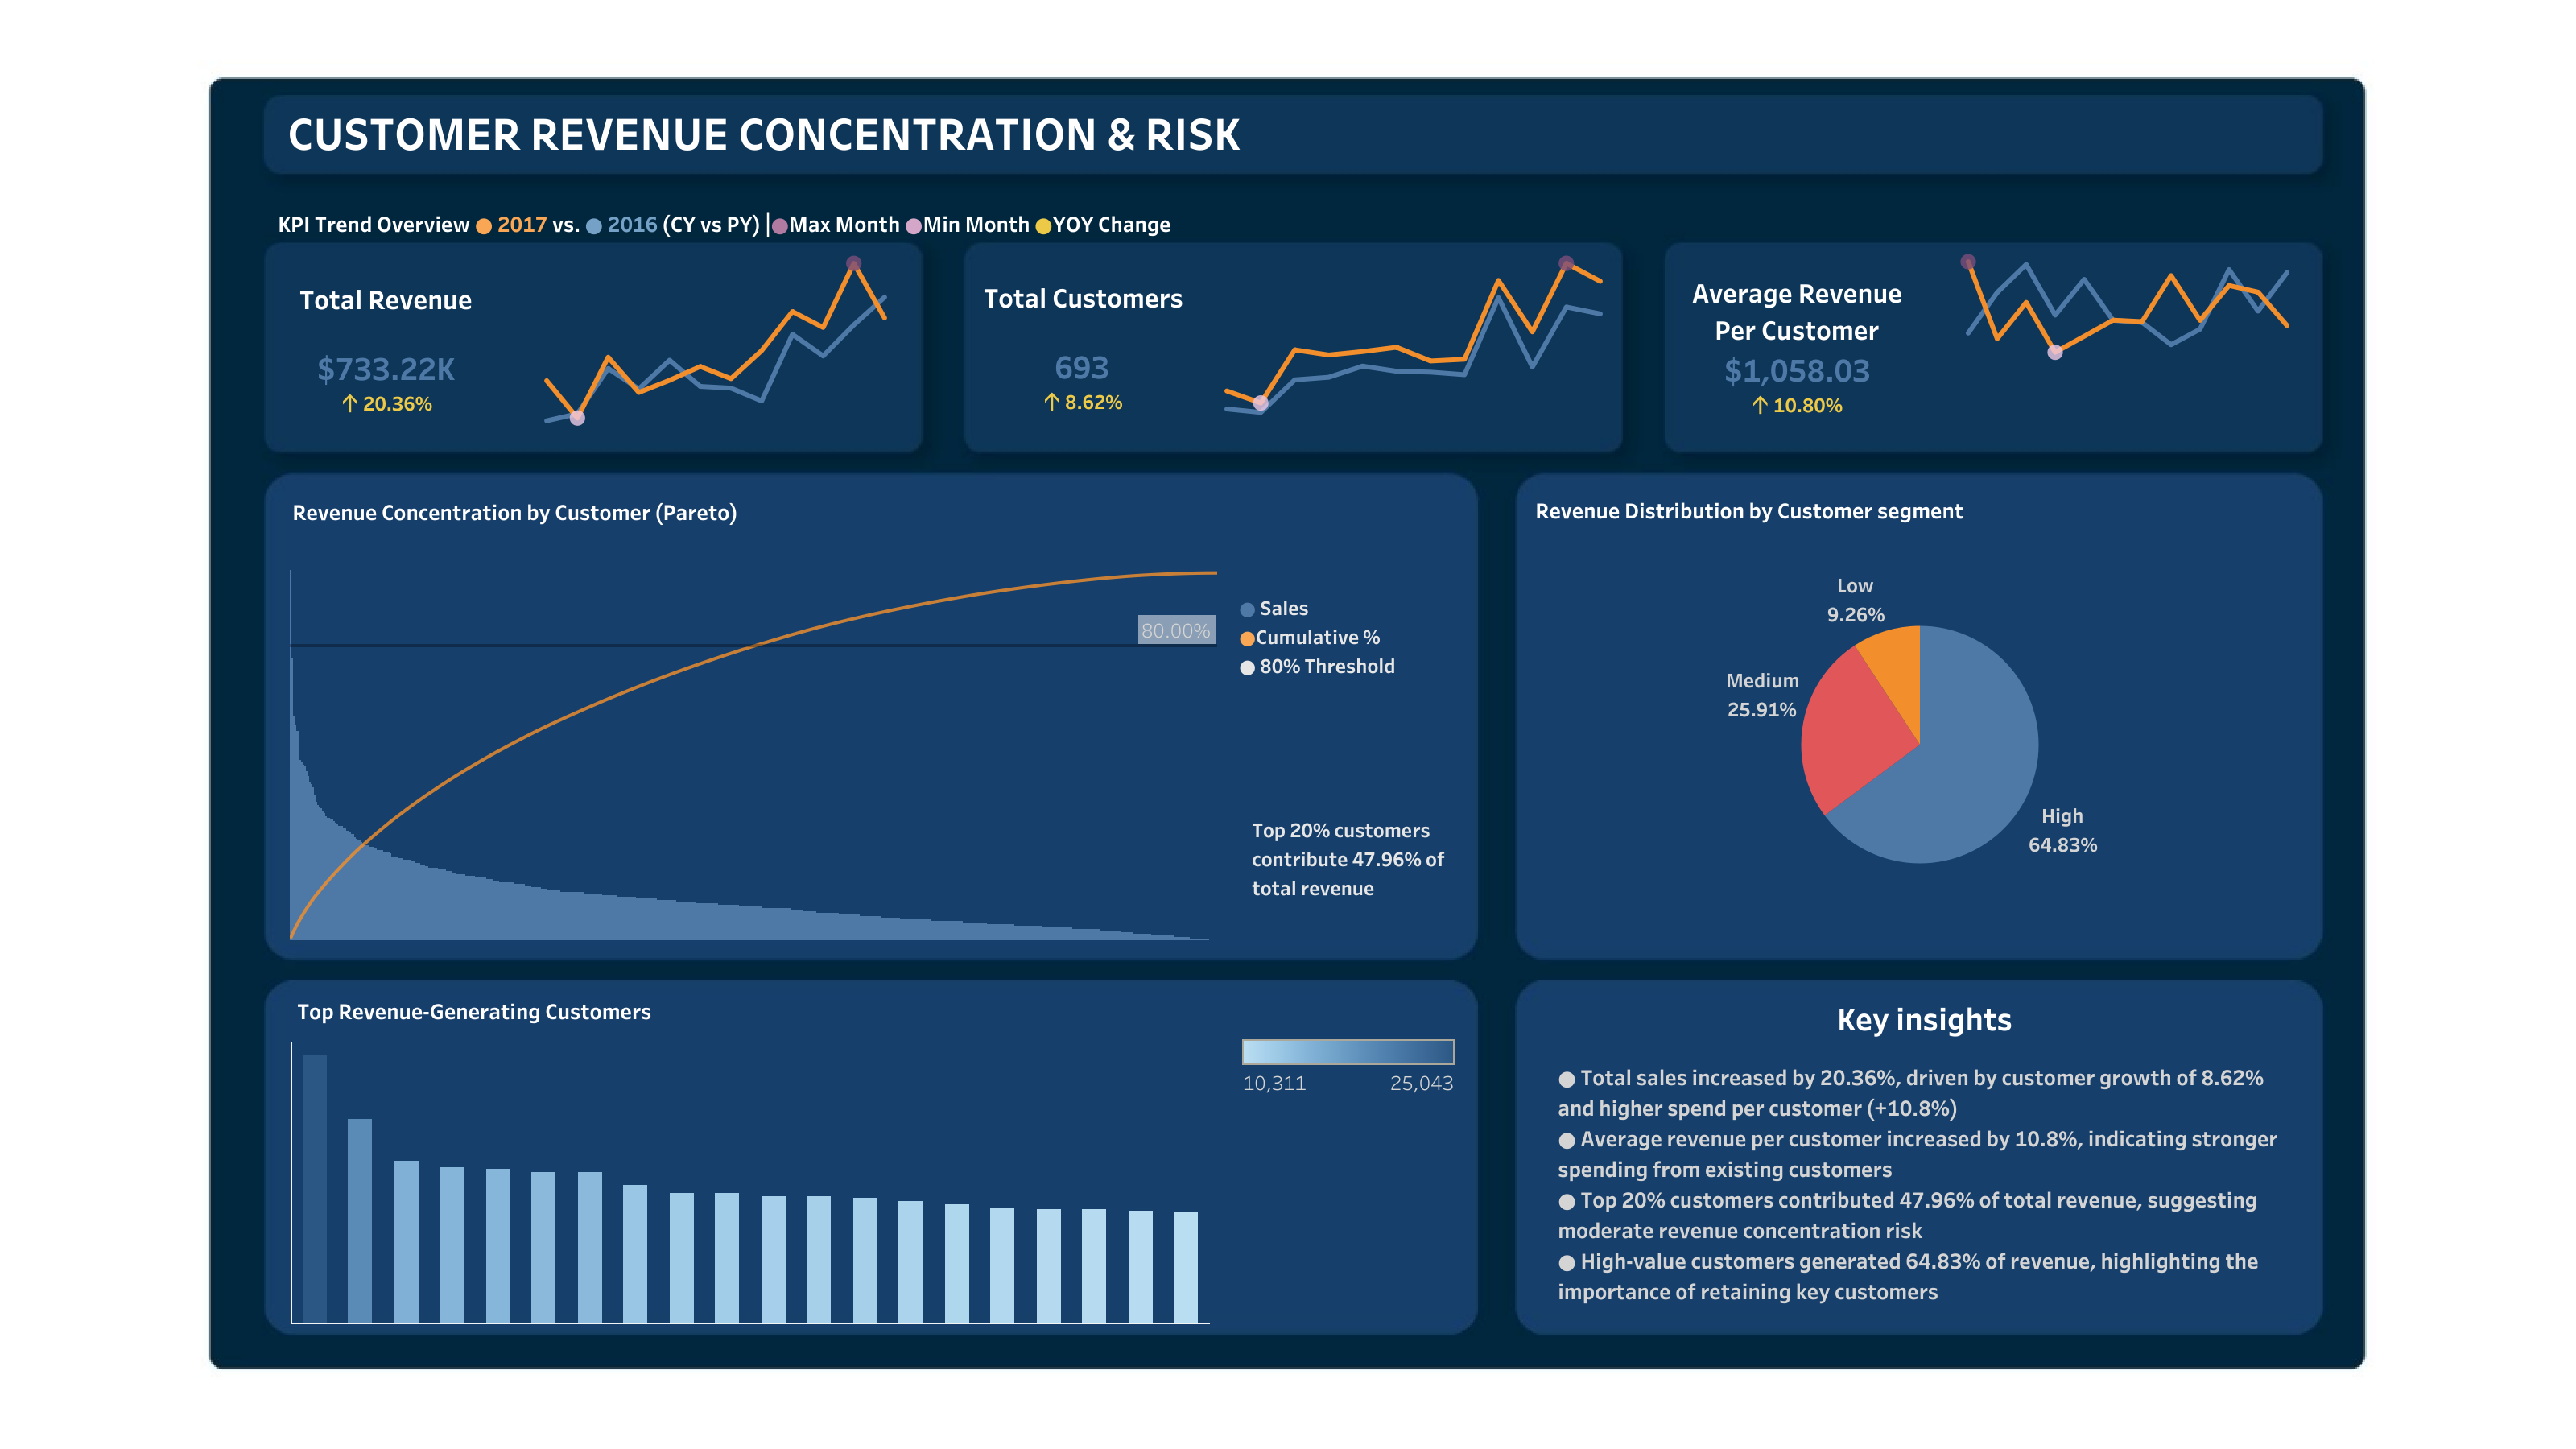

The page's visual inventory and layout, read from the dashboard file:
{"tool":"tableau","page":{"name":"Cus Rev Concentration","canvas":[1600,900],"ordinal":1},"visuals":[{"type":"image","param":"Image/White and Green Modern Clean Financial Performance Dashboard Whiteboard (1","box":[8,8,1584,884]},{"type":"text","box":[176,59,724,46]},{"type":"text","box":[170,117,667,42]},{"type":"worksheet","title":"Avg Rev per Cus KPI","mark":"Automatic","box":[1034,149,166,132]},{"type":"worksheet","title":"Avg Rev Sparkline","mark":"Automatic","rows":["Min max sales (copy)_0001156237996092"],"cols":["Order Date"],"box":[1200,149,242,132]},{"type":"worksheet","title":"Sales KPI","mark":"Automatic","box":[165,150,151,133]},{"type":"worksheet","title":"Sales Sparkline","mark":"Automatic","rows":["Calculation_0013937516183706"],"cols":["Order Date"],"box":[316,150,256,133]},{"type":"worksheet","title":"Customer KPI","mark":"Automatic","box":[599,150,148,132]},{"type":"worksheet","title":"Customer Sparkline","mark":"Automatic","rows":["Min max month (copy)_0013937526890656"],"cols":["Order Date"],"box":[747,150,260.9,132]},{"type":"text","box":[951,301,272,30]},{"type":"text","box":[179,302,305,30]},{"type":"worksheet","title":"Revenue by Segment","mark":"Pie","box":[952,340,481,245]},{"type":"worksheet","title":"Pareto Sales by Cus","mark":"Bar","rows":["Sales","Sales"],"cols":["Customer Name"],"box":[180,343,576,241]},{"type":"text","box":[767,368,103,54]},{"type":"text","box":[775,498,146,69]},{"type":"text","box":[182,612,422,30]},{"type":"text","box":[940,617,511,30]},{"type":"legend","title":"Top Customer","param":"[federated.1o6hmpw05e1tt9182i3dq17ol9k8].[sum:Sales:qk]","box":[768,642,140,46]},{"type":"worksheet","title":"Top Customer","mark":"Bar","rows":["Sales"],"cols":["Customer Name"],"box":[181,647,570,175]},{"type":"text","box":[965,651,463,167]}]}

Visuals, with their boxes in screenshot pixels (x1, y1, x2, y2), scaled from the page's 1600x900 canvas onto the 2576x1449 screenshot:
image: Rect(13, 13, 2563, 1436)
text: Rect(283, 95, 1449, 169)
text: Rect(274, 188, 1348, 256)
"Avg Rev per Cus KPI" worksheet: Rect(1665, 240, 1932, 452)
"Avg Rev Sparkline" worksheet: Rect(1932, 240, 2322, 452)
"Sales KPI" worksheet: Rect(266, 242, 509, 456)
"Sales Sparkline" worksheet: Rect(509, 242, 921, 456)
"Customer KPI" worksheet: Rect(964, 242, 1203, 454)
"Customer Sparkline" worksheet: Rect(1203, 242, 1623, 454)
text: Rect(1531, 485, 1969, 533)
text: Rect(288, 486, 779, 535)
"Revenue by Segment" worksheet (Pie marks): Rect(1533, 547, 2307, 942)
"Pareto Sales by Cus" worksheet (Bar marks): Rect(290, 552, 1217, 940)
text: Rect(1235, 592, 1401, 679)
text: Rect(1248, 802, 1483, 913)
text: Rect(293, 985, 972, 1034)
text: Rect(1513, 993, 2336, 1042)
"Top Customer" legend: Rect(1236, 1034, 1462, 1108)
"Top Customer" worksheet (Bar marks): Rect(291, 1042, 1209, 1323)
text: Rect(1554, 1048, 2299, 1317)
